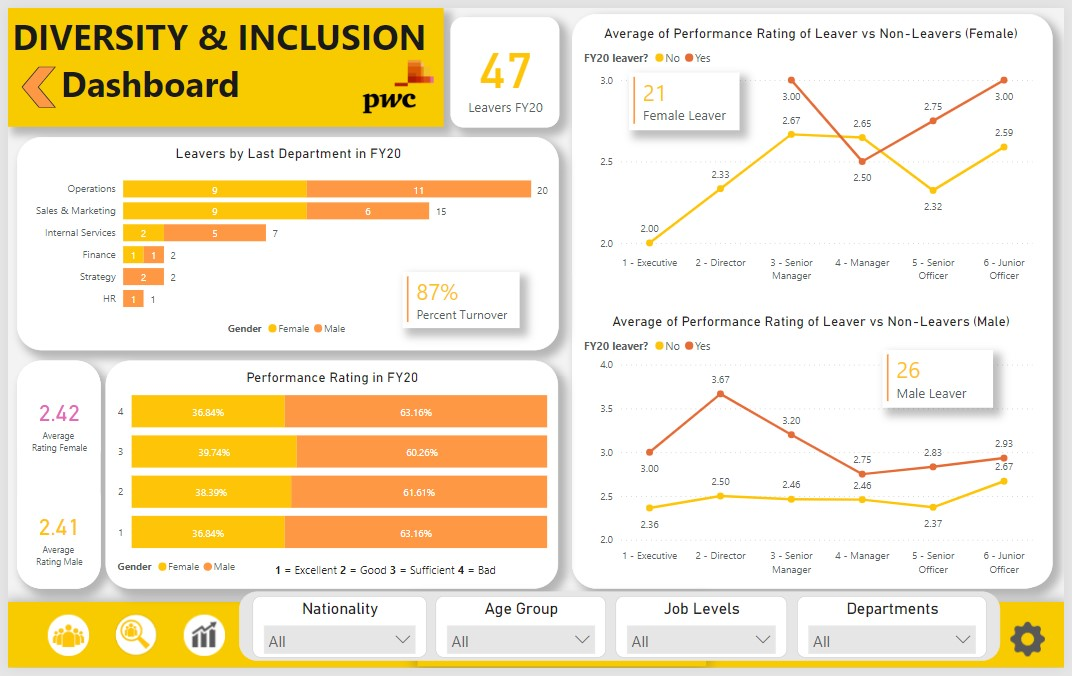

The page's visual inventory and layout, read from the dashboard file:
{"tool":"powerbi","page":{"name":"Performance","canvas":[1280,800],"ordinal":2},"visuals":[{"type":"shape","box":[10,426.7,101.1,276.7],"z":0},{"type":"shape","box":[683.3,7.4,582.6,695.2],"z":1000},{"type":"textbox","box":[0,720.5,1280.4,79.5],"z":2000},{"type":"textbox","box":[0,0,528,144],"z":3000},{"type":"image","box":[404,20,138,150],"z":4000},{"type":"shape","box":[16.7,70,42.2,50],"z":5000},{"type":"card","fields":{"Values":["Pharma Group AG.Leaver FY20"]},"box":[536.4,10,132.1,134.3],"z":6000},{"type":"lineChart","title":"Average of Performance Rating of Leaver vs Non-Leavers (Female)","fields":{"Category":["Pharma Group AG.Job Level after FY20 promotions"],"Series":["Pharma Group AG.FY20 leaver?"],"Y":["Avg(Pharma Group AG.Performance Rating in 2019)"]},"box":[683.8,10,577.5,337.5],"z":7000},{"type":"lineChart","title":"Average of Performance Rating of Leaver vs Non-Leavers (Male)","fields":{"Category":["Pharma Group AG.Job Level after FY20 promotions"],"Series":["Pharma Group AG.FY20 leaver?"],"Y":["Avg(Pharma Group AG.Performance Rating in 2019)"]},"box":[683.8,360,577.5,343.8],"z":8000},{"type":"barChart","title":"Leavers by Last Department in FY20","fields":{"Category":["Pharma Group AG.Last Department in FY20"],"Y":["Pharma Group AG.Leaver FY20"],"Series":["Pharma Group AG.Gender"]},"box":[10,156.7,656.7,258.3],"z":9000},{"type":"multiRowCard","fields":{"Values":["Pharma Group AG.Leaver FY20 for Female"]},"box":[752,78,134,70],"z":10000},{"type":"multiRowCard","fields":{"Values":["Pharma Group AG.Leaver FY20 for Male"]},"box":[1060,414,134,70],"z":11000},{"type":"multiRowCard","fields":{"Values":["Backing 1.Percent Turnover"]},"box":[478,320,142,68],"z":12000},{"type":"hundredPercentStackedBarChart","title":"Performance Rating in FY20","fields":{"Category":["Pharma Group AG.Performance Rating in 2020"],"Y":["CountNonNull(Pharma Group AG.Employee ID)"],"Series":["Pharma Group AG.Gender"]},"box":[118.3,426.7,548.3,276.7],"z":13000},{"type":"textbox","box":[318.9,665.6,301.1,36.7],"z":14000},{"type":"card","fields":{"Values":["Pharma Group AG.Average Performance Rating Male"]},"box":[10,564.4,101.1,140],"z":15000},{"type":"card","fields":{"Values":["Pharma Group AG.Average Performance Rating Female"]},"box":[10,426.7,101.1,136.7],"z":16000},{"type":"actionButton","box":[112.5,720,83.8,80],"z":17000},{"type":"actionButton","box":[30,720,84,80],"z":18000},{"type":"actionButton","box":[196.2,720,83.8,80],"z":19000},{"type":"actionButton","box":[1211.4,740.7,50,50],"z":20000},{"type":"textbox","box":[496,720,350,78],"z":20500}]}

Visuals, with their boxes in screenshot pixels (x1, y1, x2, y2), scaled from the page's 1280x800 canvas onto the 1072x676 screenshot:
shape: left=8, top=361, right=93, bottom=594
shape: left=572, top=6, right=1060, bottom=594
textbox: left=0, top=609, right=1071, bottom=675
textbox: left=0, top=0, right=442, bottom=122
image: left=338, top=17, right=454, bottom=144
shape: left=14, top=59, right=49, bottom=101
card - Pharma Group AG.Leaver FY20: left=449, top=8, right=560, bottom=122
"Average of Performance Rating of Leaver vs Non-Leavers (Female)" lineChart: left=573, top=8, right=1056, bottom=294
"Average of Performance Rating of Leaver vs Non-Leavers (Male)" lineChart: left=573, top=304, right=1056, bottom=595
"Leavers by Last Department in FY20" barChart: left=8, top=132, right=558, bottom=351
multiRowCard - Pharma Group AG.Leaver FY20 for Female: left=630, top=66, right=742, bottom=125
multiRowCard - Pharma Group AG.Leaver FY20 for Male: left=888, top=350, right=1000, bottom=409
multiRowCard - Backing 1.Percent Turnover: left=400, top=270, right=519, bottom=328
"Performance Rating in FY20" hundredPercentStackedBarChart: left=99, top=361, right=558, bottom=594
textbox: left=267, top=562, right=519, bottom=593
card - Pharma Group AG.Average Performance Rating Male: left=8, top=477, right=93, bottom=595
card - Pharma Group AG.Average Performance Rating Female: left=8, top=361, right=93, bottom=476
actionButton: left=94, top=608, right=164, bottom=675
actionButton: left=25, top=608, right=95, bottom=675
actionButton: left=164, top=608, right=234, bottom=675
actionButton: left=1015, top=626, right=1056, bottom=668
textbox: left=415, top=608, right=709, bottom=674
